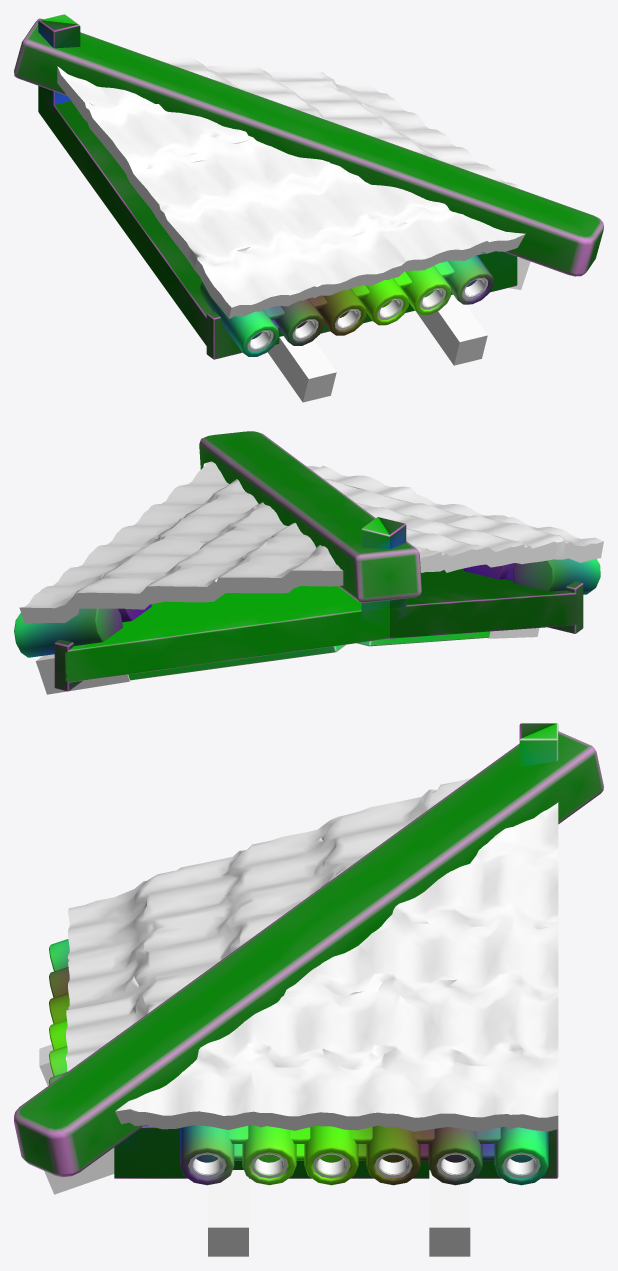
Rendered from overhang_slope_100_01_corner.fbx.
The picture shows the model from 3 angles, top to bottom: view 1: azimuth 30°, elevation 25°; view 2: azimuth 150°, elevation 25°; view 3: azimuth 270°, elevation 25°; orthographic projection. The views are drawn at different scales.
Parts seen in each view (by area): view 1: overhang_slope_100_01_corner; view 2: overhang_slope_100_01_corner; view 3: overhang_slope_100_01_corner.
Boxes of the visible parts, left/top/right/bottom form: overhang_slope_100_01_corner: left=14, top=14, right=603, bottom=402; overhang_slope_100_01_corner: left=14, top=431, right=603, bottom=694; overhang_slope_100_01_corner: left=14, top=723, right=603, bottom=1256.
Size of the model in its own units: 1.48 by 0.9122 by 1.52.
